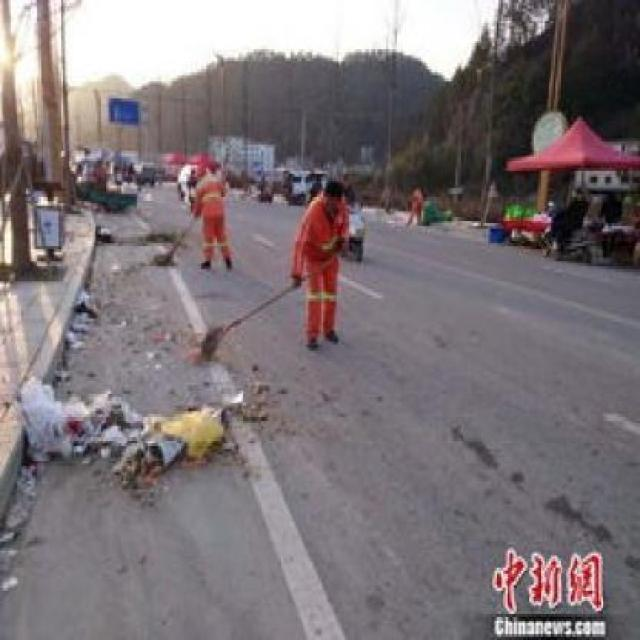garbage: (9, 377, 256, 476), (497, 197, 547, 246), (65, 281, 95, 336), (89, 220, 118, 249)
